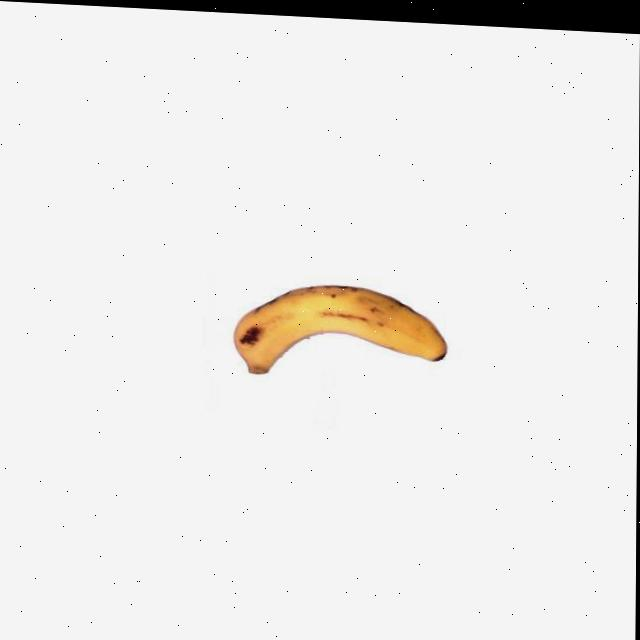banana: (230, 276, 453, 387)
